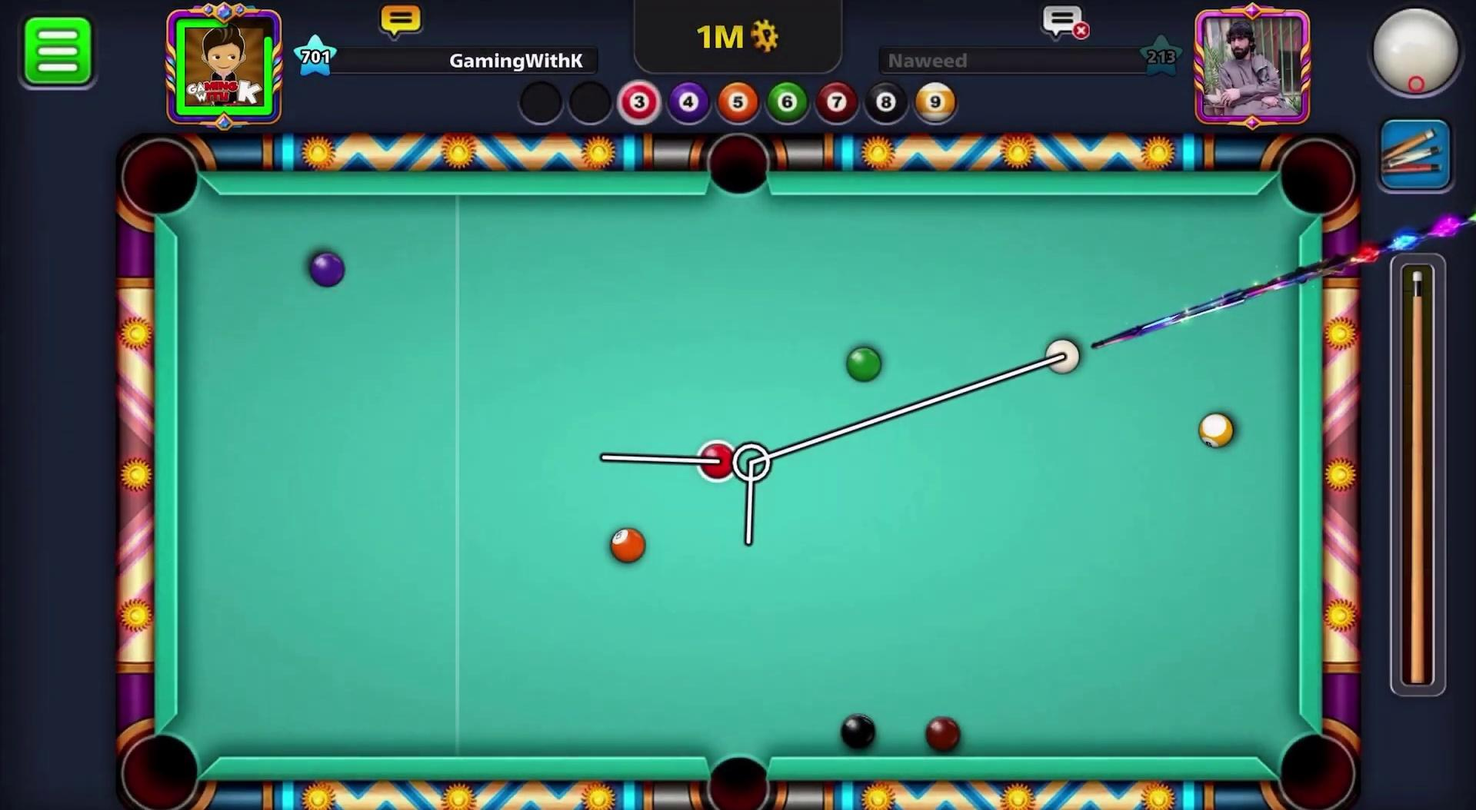Ball: (598, 520, 655, 569), (1191, 409, 1241, 455), (828, 709, 879, 754), (839, 340, 888, 385), (303, 247, 349, 294), (922, 712, 969, 754), (696, 440, 738, 482)
Force: (1384, 248, 1454, 699)
Guideline: (600, 340, 1081, 546)
Hole: (110, 125, 220, 235), (1268, 128, 1365, 227), (1263, 716, 1365, 809), (112, 722, 208, 809), (684, 739, 787, 809), (700, 123, 779, 201)
Play_Area: (176, 192, 1296, 755)
Spin: (1346, 0, 1475, 117)
White: (1041, 330, 1088, 380)
